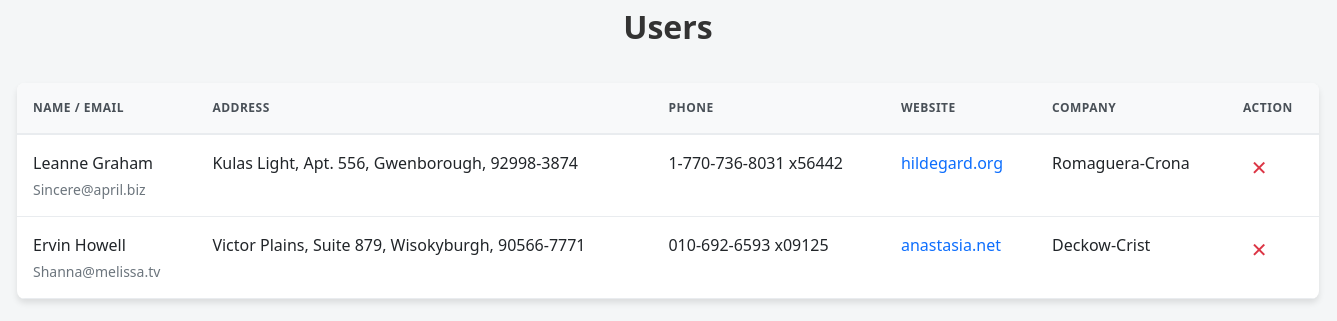
Scenario: App Integration Tests › allows deleting a user
Expected: the text "Leanne Graham" is shown, x1=33 y1=152 x2=153 y2=174
Click the button named "Delete" at [1259, 167], box x1=1243 y1=151 x2=1275 y2=183
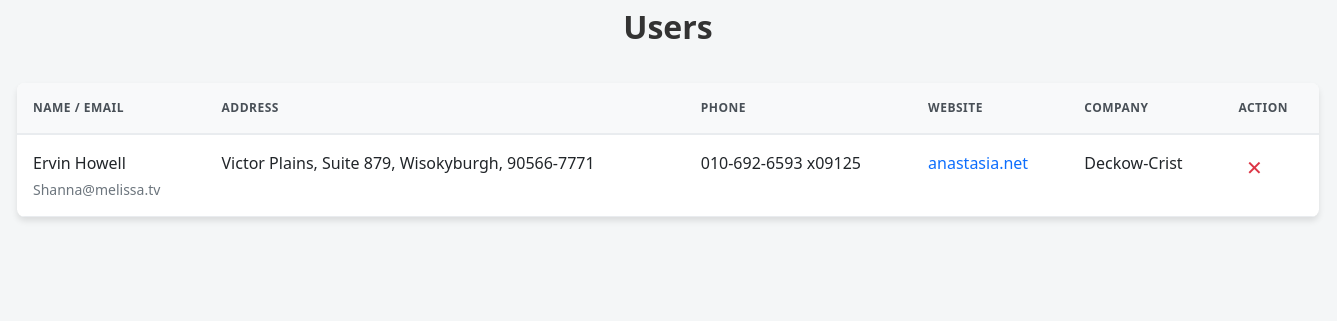
Expected: the text "Ervin Howell" is shown, x1=33 y1=152 x2=126 y2=174
Now the button "Leanne Graham" is gone
